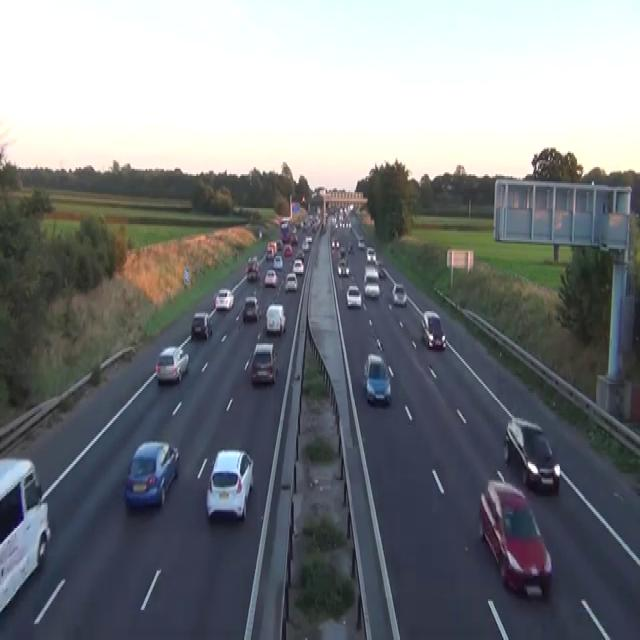Car: (478, 475, 552, 597), (503, 416, 560, 492), (124, 439, 179, 510), (205, 448, 254, 521), (363, 352, 391, 405), (154, 345, 189, 384), (248, 341, 278, 384), (420, 310, 445, 348), (191, 311, 212, 340), (265, 304, 285, 334), (242, 295, 260, 322), (214, 288, 234, 311), (345, 284, 362, 308), (391, 282, 406, 306), (246, 258, 259, 281), (363, 265, 379, 283), (284, 272, 298, 292), (364, 281, 380, 297), (264, 268, 277, 286), (337, 258, 350, 276), (292, 258, 304, 274), (375, 260, 385, 278), (247, 254, 258, 267), (366, 247, 376, 261), (273, 254, 283, 268), (331, 236, 340, 249), (283, 244, 292, 256), (357, 236, 365, 249), (290, 230, 298, 243), (265, 247, 273, 260), (276, 238, 283, 251), (301, 238, 308, 251), (295, 249, 304, 259), (280, 219, 289, 229), (376, 338, 383, 350), (339, 245, 346, 256), (347, 242, 354, 252), (378, 267, 385, 277), (305, 234, 312, 243), (321, 222, 326, 233), (348, 202, 353, 212), (258, 228, 262, 238), (301, 195, 305, 202)
Truck: (0, 455, 50, 617)
